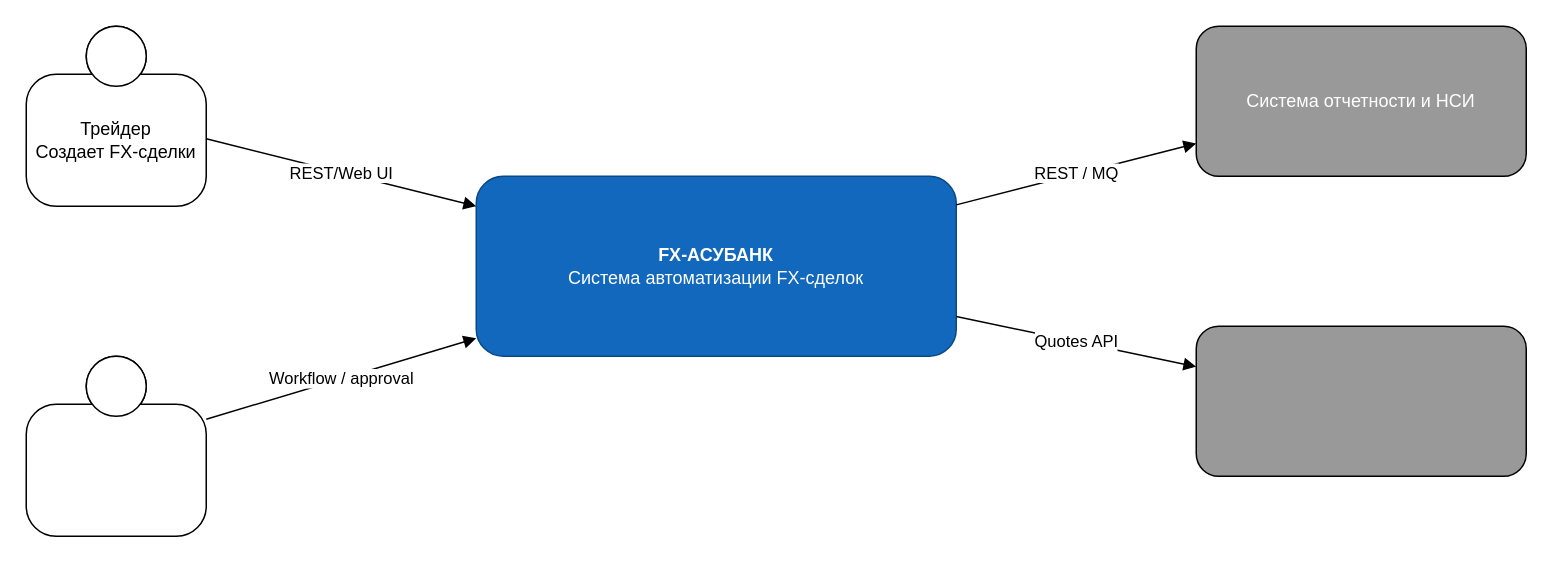
This 1553x563 diagram has some shape labels left out. The shapes that lost their labels are listed below. From the top down, each one's centre as x and y in pixels, then its label:
At pixel 1360 400: "Quote Service Источники котировок".
At pixel 115 445: "Позиционер Согласование сделок".
